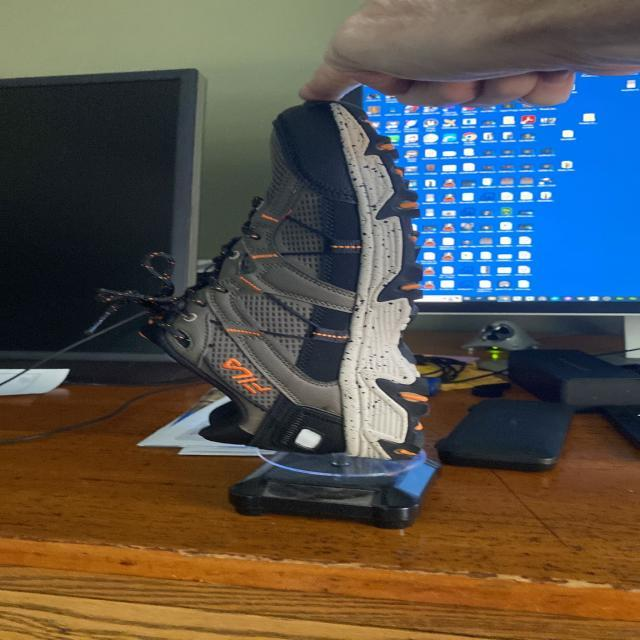shoes: (133, 98, 434, 460)
